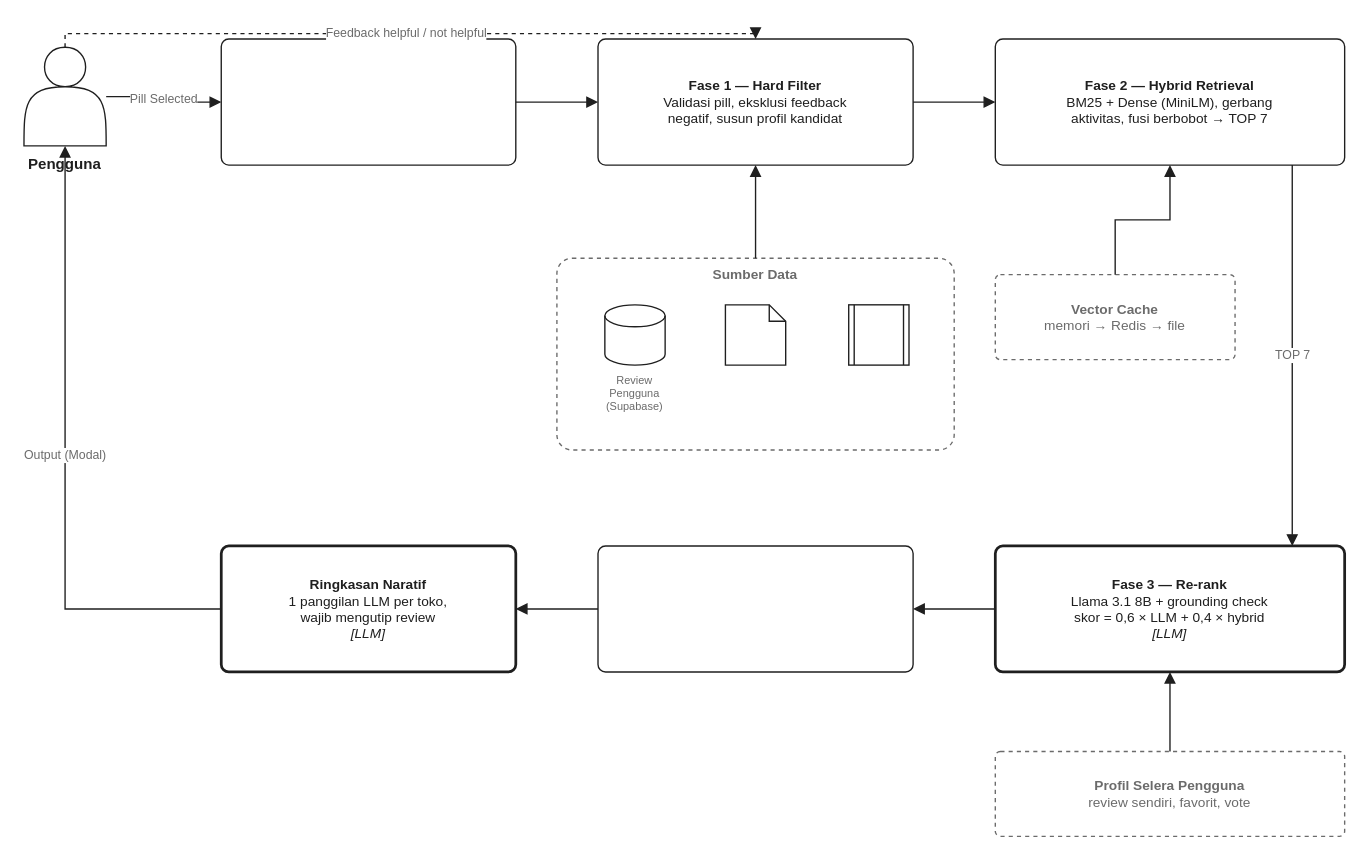
Some shapes in this 1370 by 860 pixel diagram are drawn without their labels. Here are the shapes that lost their labels. From the top down, the centre of each, then its label:
At pixel 368 101: "Query Building PILL_MAPPING → token BM25 + kalimat intent dense [TANPA LLM]".
At pixel 755 334: "facilities.json".
At pixel 878 334: "shop_votes & pros-cons".
At pixel 755 608: "Seleksi TOP 3 + Evidence fit_score ≥ 5,0, kutipan pendukung & caveat terpilih".
